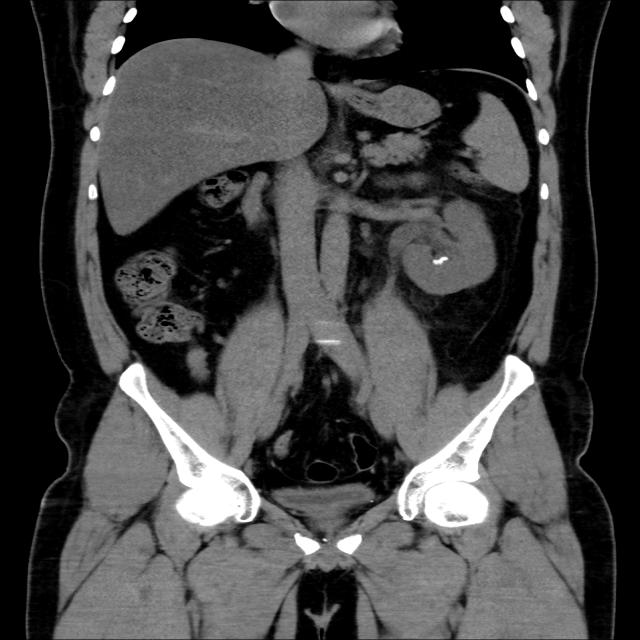kidneystone: (432, 256, 449, 265)
